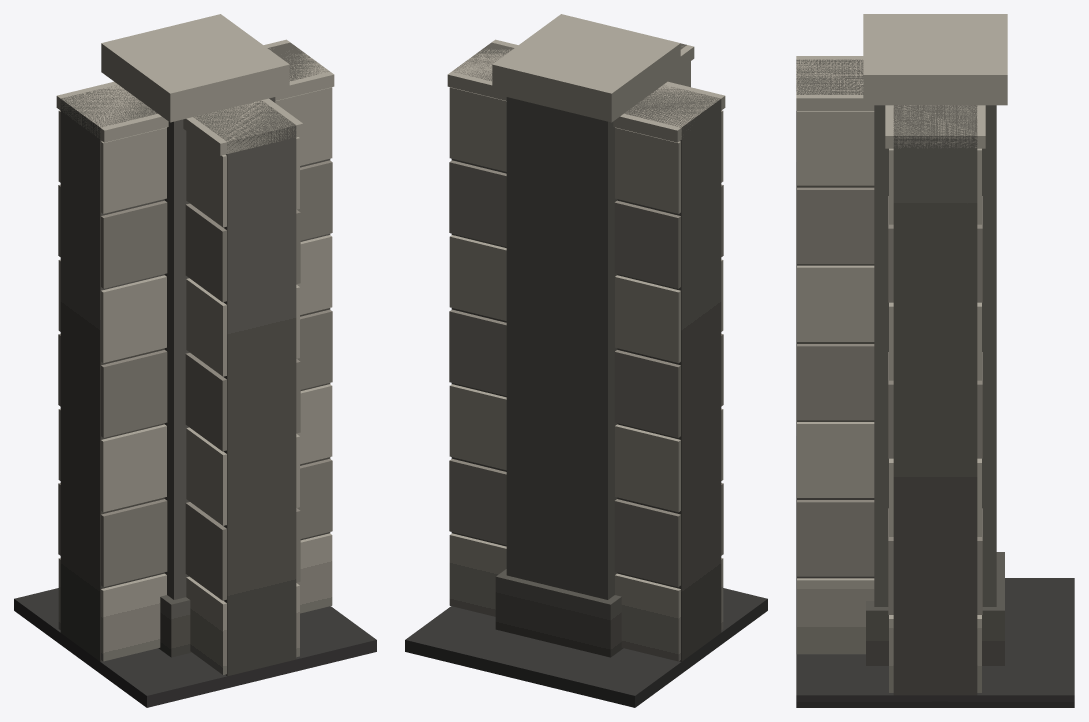
Rendered from model_45_stone_tee.glb.
3 views of the same model, side by side, from view 1: azimuth 30°, elevation 25°; view 2: azimuth 150°, elevation 25°; view 3: azimuth 270°, elevation 25° (orthographic). The views are drawn at different scales.
Size of the model in its own units: 1 by 2.4 by 1.
Materials: 1 (1 with a texture image).
